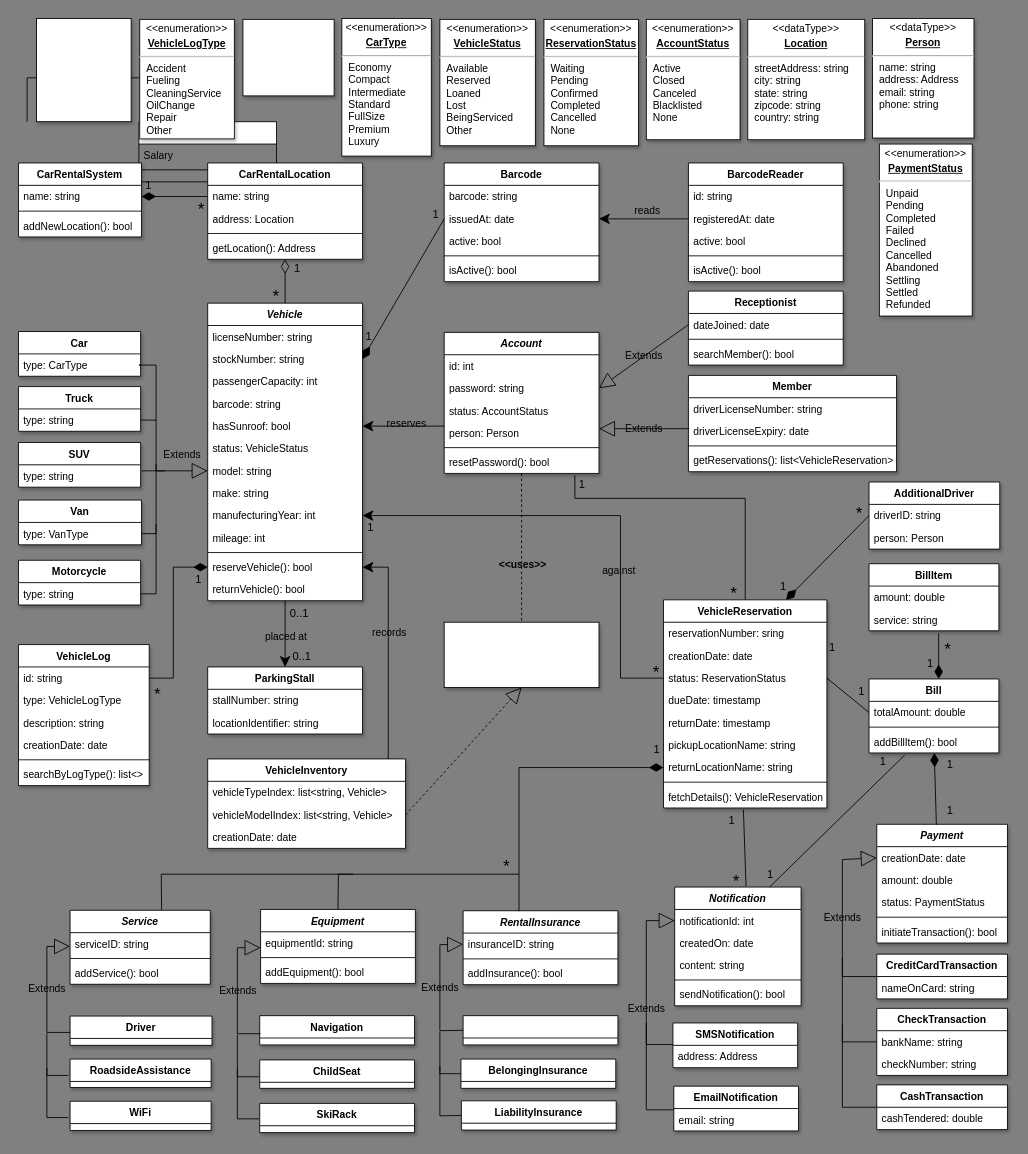
Some shapes in this 1028 by 1154 pixel diagram are drawn without their labels. The shapes that lost their labels are listed below. From the top down, each one's centre as x and y in pixels, then its label:
At (84,71): "<< enumeration >> BillItemType BaseCharge AdditionalService Fine toll tax Other".
At (289,58): "enumeration VanType Passenger Cargo".
At (522,656): "<<interface>> Search searchByType(string) searchByModel(string)".
At (541,1031): "Personalnsurance".
